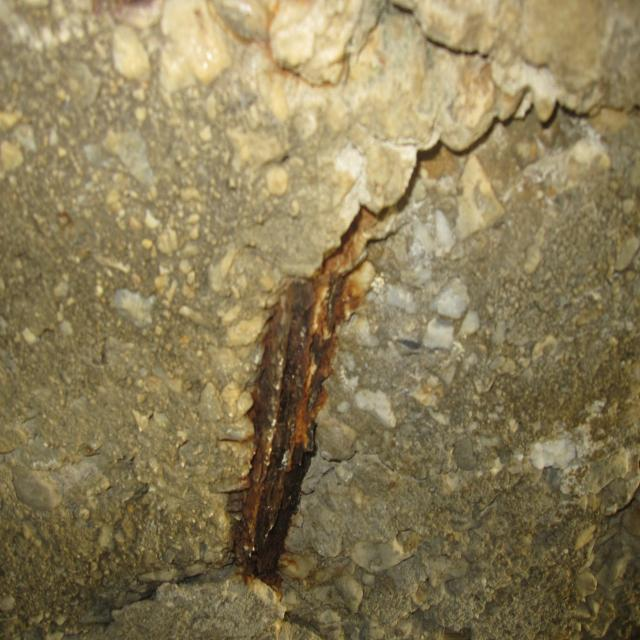corrosion: (216, 201, 368, 603)
